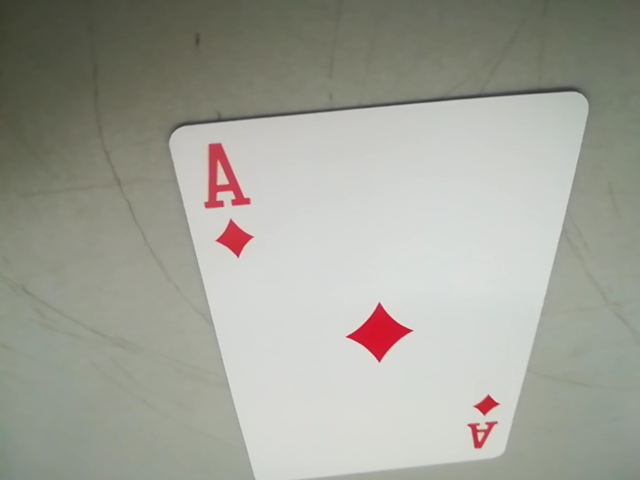fk a: (197, 148, 248, 215), (462, 390, 505, 452)
